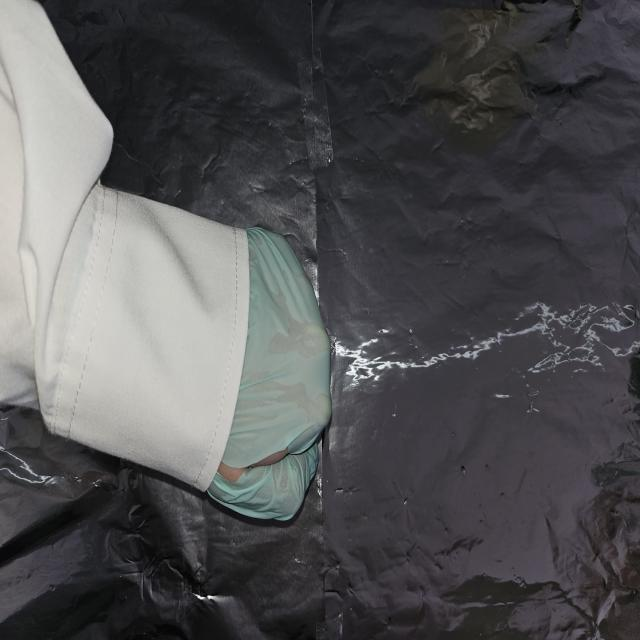gloves_damaged: (204, 225, 332, 524)
